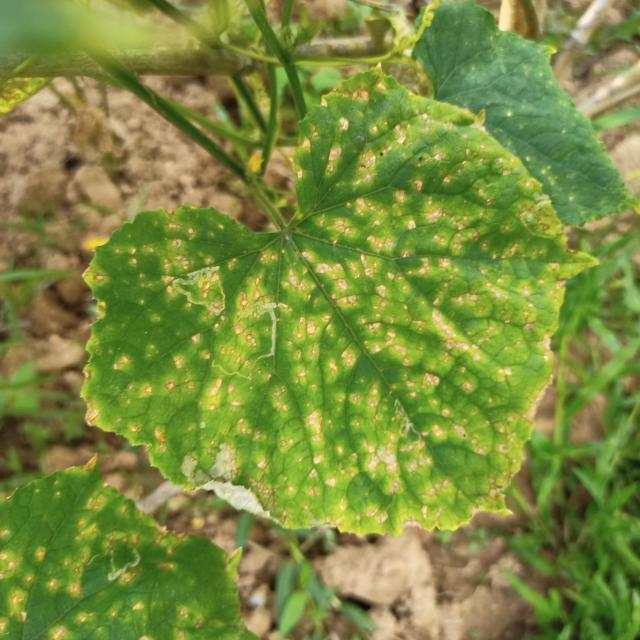disease_cucumber: (93, 81, 562, 535)
